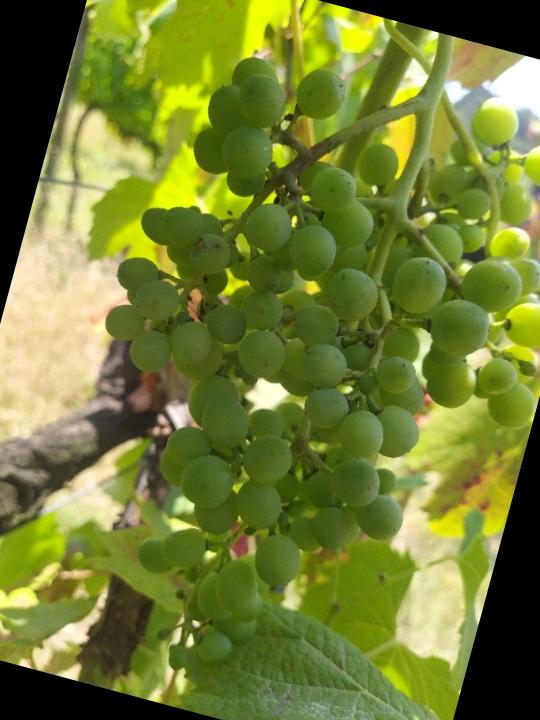grape: (19, 10, 540, 720)
